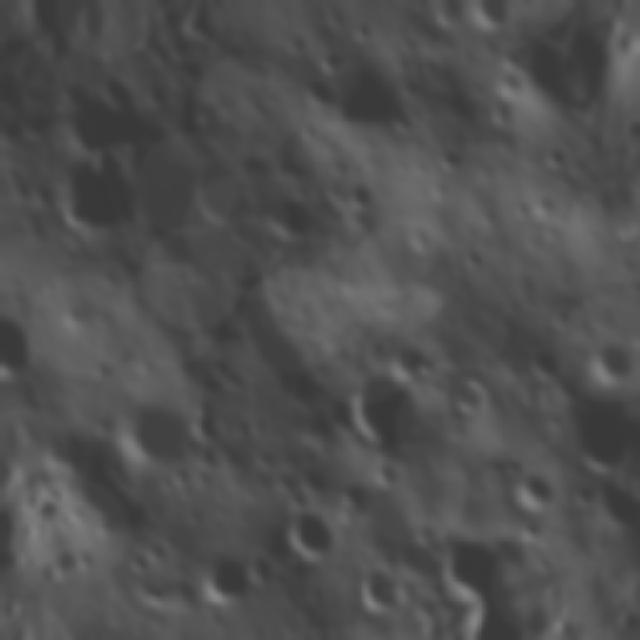crater: (96, 118, 236, 282), (55, 444, 160, 561), (35, 140, 143, 252), (413, 507, 524, 615), (329, 354, 431, 458), (102, 383, 198, 485), (555, 383, 640, 482), (181, 142, 268, 236), (319, 69, 412, 156), (171, 275, 252, 368), (51, 74, 135, 161), (192, 542, 266, 616), (270, 495, 342, 570), (250, 180, 324, 252), (338, 553, 408, 622), (0, 294, 49, 381), (182, 390, 238, 458), (502, 462, 562, 523), (440, 363, 497, 425), (320, 244, 377, 305), (238, 537, 292, 598), (589, 329, 640, 393), (383, 327, 432, 384), (133, 70, 178, 119), (334, 171, 380, 218), (528, 132, 574, 179), (467, 0, 524, 35), (521, 338, 564, 384), (296, 70, 338, 113), (430, 138, 465, 178)
